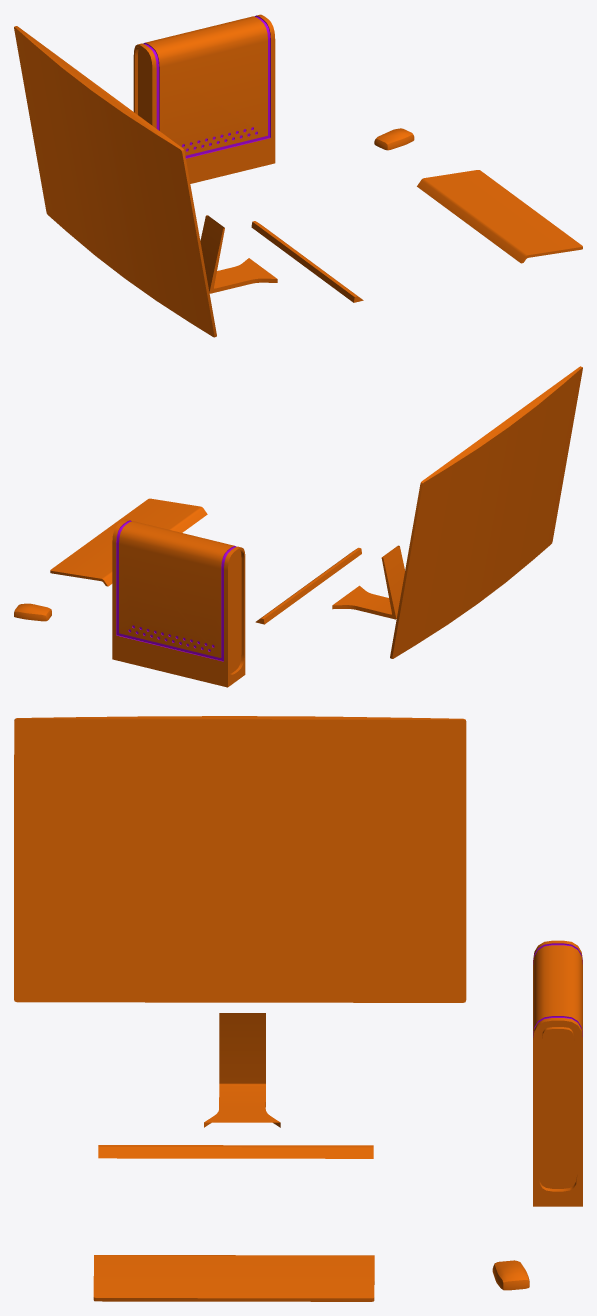
The picture shows the model from 3 angles, top to bottom: view 1: azimuth 30°, elevation 25°; view 2: azimuth 150°, elevation 25°; view 3: azimuth 270°, elevation 25°; orthographic projection. The views are drawn at different scales.
Visible parts, largest first — view 1: Desktop_PC_High_EXP; view 2: Desktop_PC_High_EXP; view 3: Desktop_PC_High_EXP.
Part boxes in pixels (x1,y1,x2,y2): Desktop_PC_High_EXP: (14,14,582,337); Desktop_PC_High_EXP: (14,366,582,687); Desktop_PC_High_EXP: (14,716,582,1301).
Bounding box in the file's own units: 23.68 × 11.71 × 19.95.
